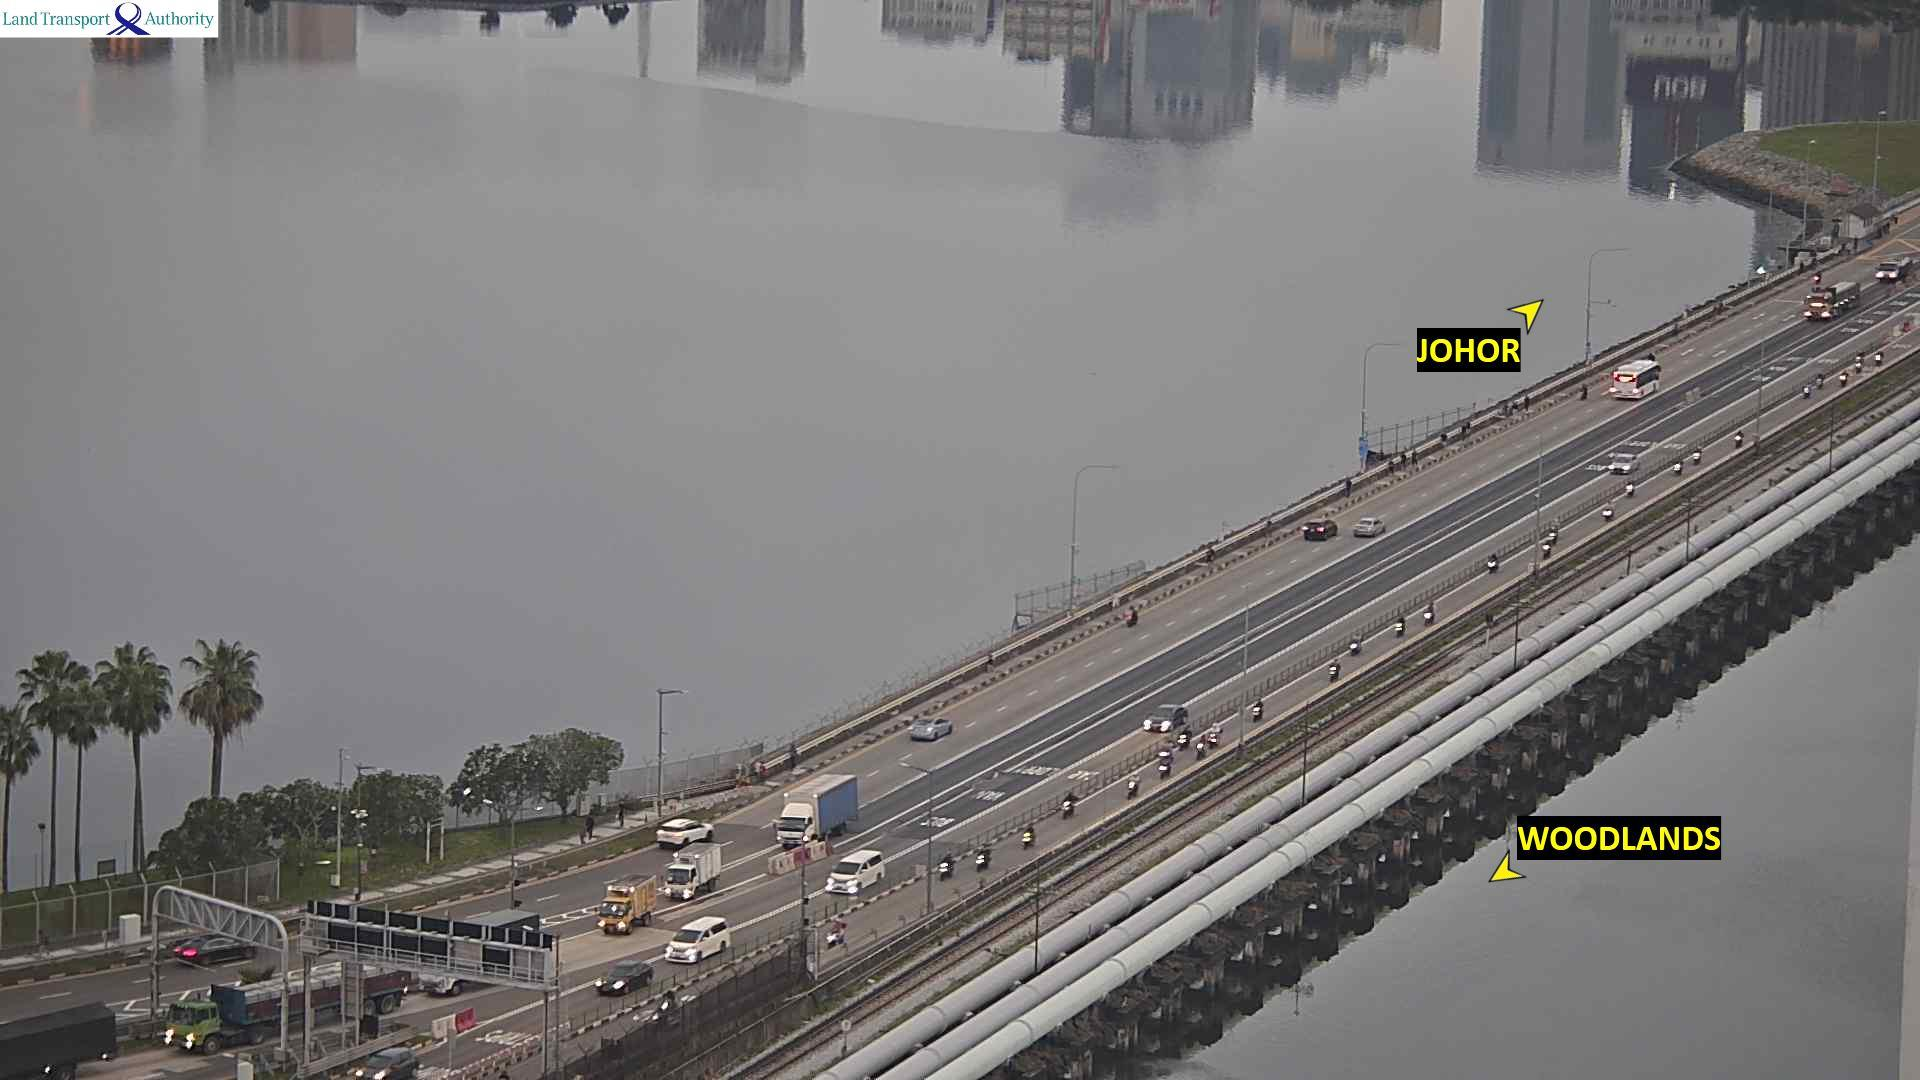vehicle-causeway-johor: (174, 930, 258, 965), (1611, 357, 1662, 401), (658, 819, 713, 848), (906, 713, 952, 738), (1304, 518, 1335, 541), (1352, 517, 1385, 537), (1125, 607, 1137, 628), (1813, 272, 1822, 284)
vehicle-causeway-singapore: (165, 956, 411, 1056), (421, 910, 538, 993), (0, 1002, 117, 1080), (774, 773, 860, 849), (596, 872, 655, 936), (662, 841, 721, 901), (665, 915, 729, 961), (828, 849, 884, 897), (1804, 280, 1861, 323), (352, 1047, 418, 1079), (599, 960, 654, 994), (1145, 704, 1187, 733), (1876, 256, 1909, 282), (827, 916, 849, 947), (1611, 452, 1640, 475), (1125, 769, 1141, 798), (976, 844, 993, 868), (1062, 790, 1079, 814), (1021, 824, 1036, 849), (1422, 599, 1435, 628), (1208, 721, 1224, 745), (1158, 756, 1172, 781), (1178, 727, 1193, 749), (1349, 632, 1364, 655), (1325, 657, 1338, 682), (939, 853, 953, 876), (1250, 698, 1263, 720), (1547, 524, 1560, 546), (1195, 733, 1205, 760), (1602, 500, 1615, 520), (1486, 553, 1501, 570), (1539, 541, 1551, 558), (1672, 459, 1684, 476), (1838, 368, 1849, 386), (1395, 615, 1404, 634), (1734, 430, 1745, 447), (1853, 349, 1865, 364), (1693, 448, 1702, 467), (1816, 373, 1825, 389), (1874, 349, 1883, 365), (1626, 480, 1635, 495), (1803, 381, 1809, 400)
